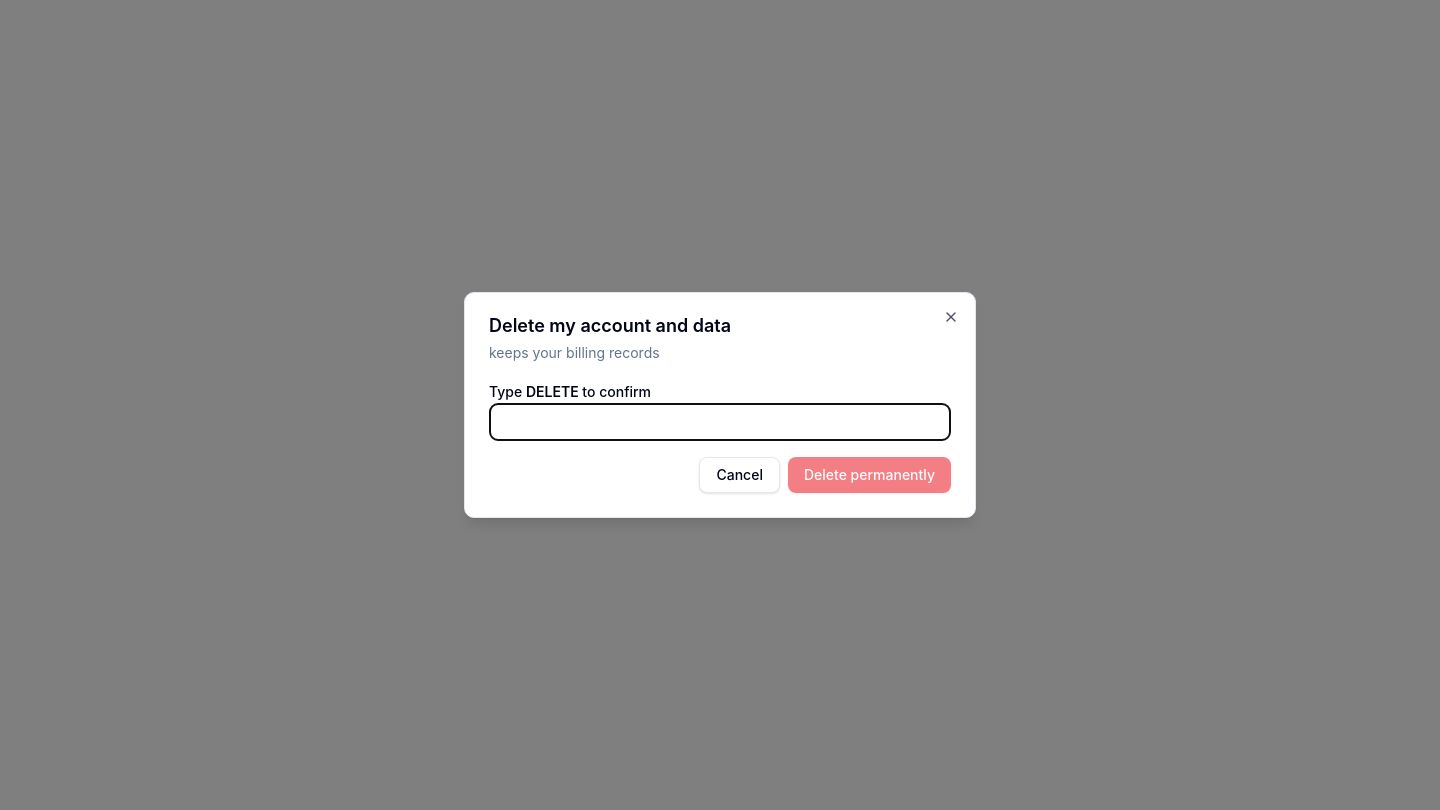
Test: ErasureConfirmDialog (#482) › does NOT report success when the manifest reports a partial failure (AC5)
Step 1. Type "DELETE" into the field labelled "Type DELETE to confirm" → coordinates (720, 422), box x1=489 y1=403 x2=951 y2=441
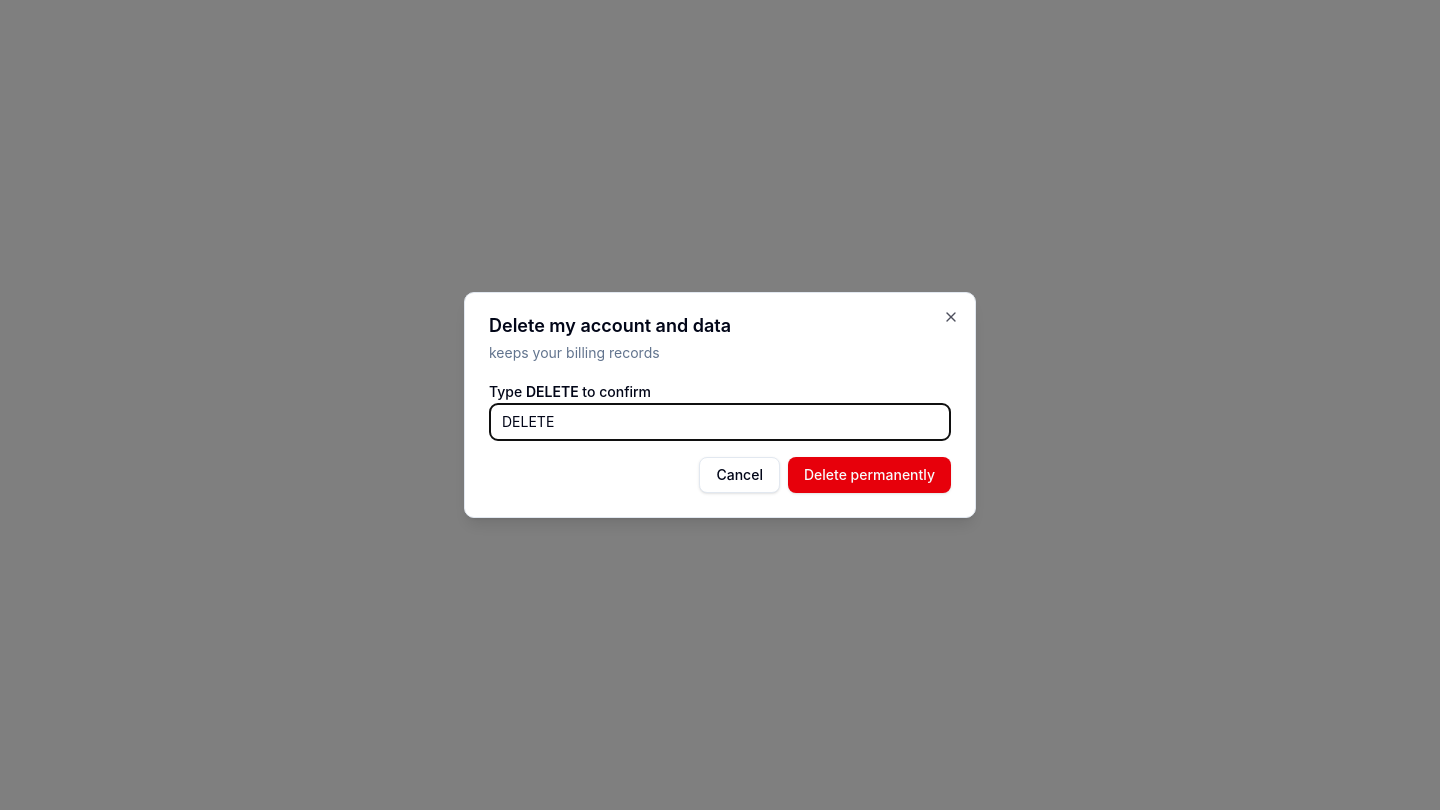
Step 2. Click the button with test id "confirm-erasure" → coordinates (870, 475), box x1=788 y1=457 x2=951 y2=493
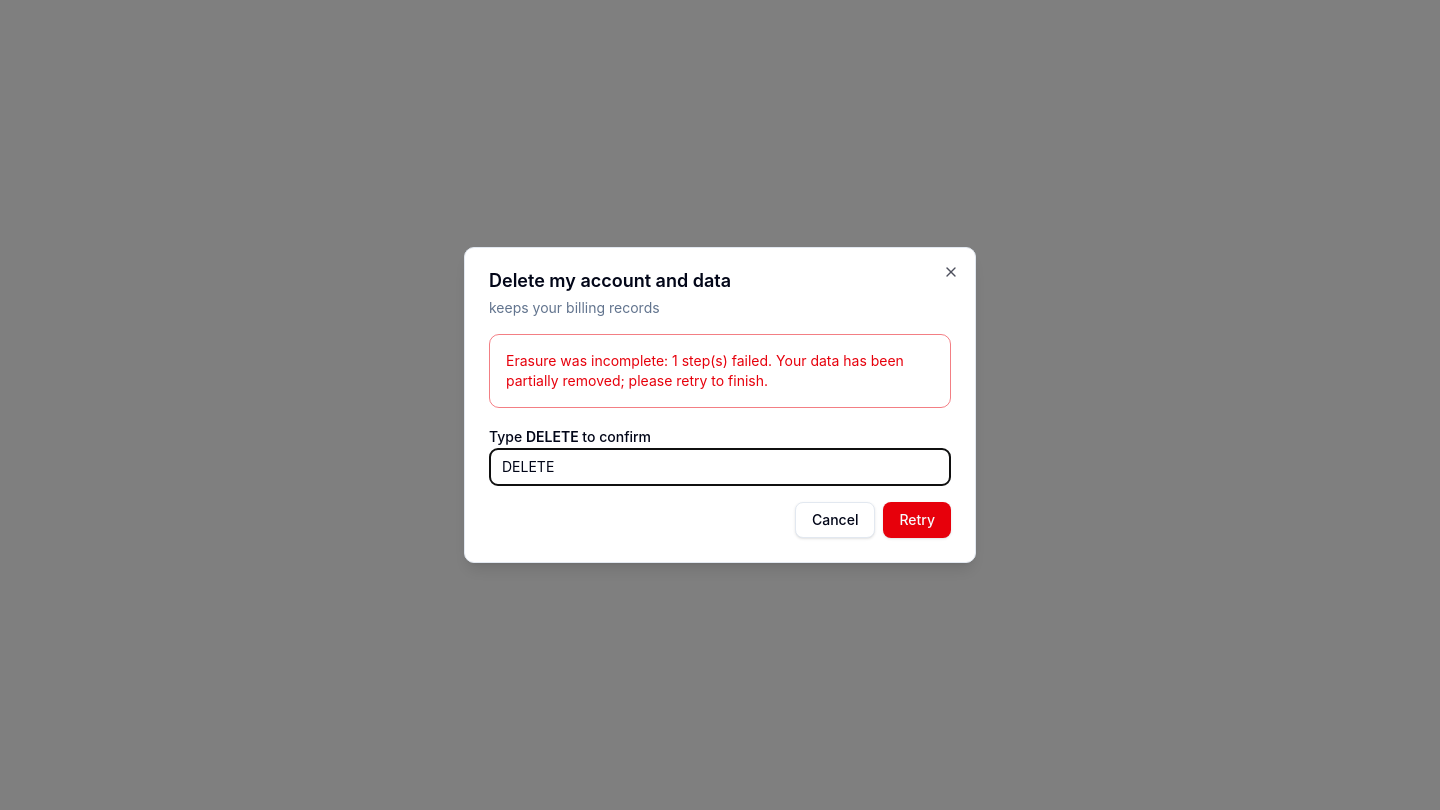
Check: the message shows "incomplete", box x1=506 y1=352 x2=904 y2=389
